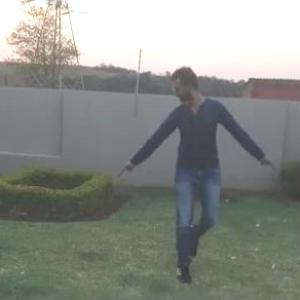land: (115, 63, 286, 284)
